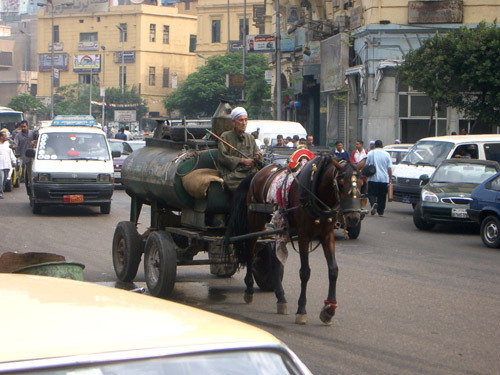horse: (234, 149, 371, 325)
